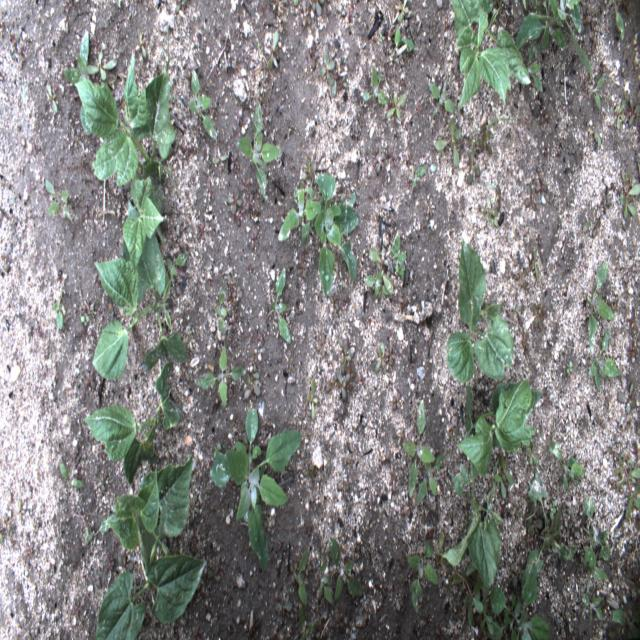crop: (74, 51, 178, 271), (94, 451, 205, 639), (91, 196, 190, 380), (83, 359, 183, 487), (444, 237, 514, 384), (454, 376, 544, 481), (450, 0, 530, 115), (439, 461, 505, 592)
weed: (210, 406, 303, 574), (452, 552, 551, 639), (515, 0, 594, 94), (312, 170, 360, 298), (524, 467, 578, 574), (237, 98, 282, 201), (400, 398, 436, 499), (196, 343, 246, 410), (277, 171, 320, 248), (586, 258, 616, 350), (404, 538, 440, 612), (582, 497, 610, 582), (587, 327, 622, 394), (329, 538, 364, 600), (188, 68, 216, 139), (547, 440, 586, 490), (614, 450, 640, 522), (270, 266, 292, 346), (364, 244, 394, 301), (62, 30, 91, 84), (435, 115, 463, 169), (318, 51, 349, 97), (416, 451, 441, 507), (361, 64, 389, 105), (45, 180, 72, 221), (292, 546, 309, 610), (87, 50, 118, 84), (318, 555, 338, 605), (611, 606, 640, 640), (581, 578, 603, 622), (389, 232, 408, 282), (494, 453, 514, 500), (618, 176, 640, 218), (428, 80, 454, 113), (59, 460, 85, 491), (214, 282, 228, 336), (51, 294, 68, 332), (266, 28, 280, 72), (306, 376, 319, 422), (298, 606, 315, 640), (387, 92, 407, 120), (338, 339, 355, 371), (593, 71, 606, 112), (393, 25, 416, 48), (337, 369, 351, 403), (468, 147, 480, 185), (613, 0, 624, 39), (245, 374, 260, 401), (410, 165, 428, 187), (614, 98, 626, 131), (374, 339, 385, 374), (486, 196, 498, 228), (532, 250, 542, 282), (47, 84, 57, 115), (138, 26, 147, 58), (398, 0, 409, 24), (584, 220, 598, 238), (589, 130, 601, 150), (211, 153, 228, 165), (84, 526, 92, 546), (18, 499, 26, 519), (81, 313, 90, 328), (566, 358, 573, 376)
